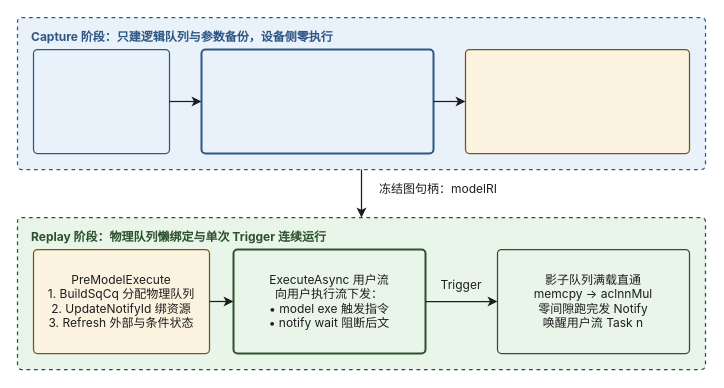
Some shapes in this 724 by 388 pixel diagram are drawn without their labels. The centre of each missing label's shape, as x and y in pixels:
CaptureEnd 收尾 1. Fork-Join 拓扑校验 2. 追加 EndGraph Notify 3. 冻结逻辑流产出 modelRI: (577,101)
Shadow Stream (影子流) 1. 保存 Task 与 LogicSQ 2. D2D 备份 Kernel Args 3. 保持原序，设备零执行: (317,101)
用户流 CaptureBegin 进入捕获模式: (101,101)
